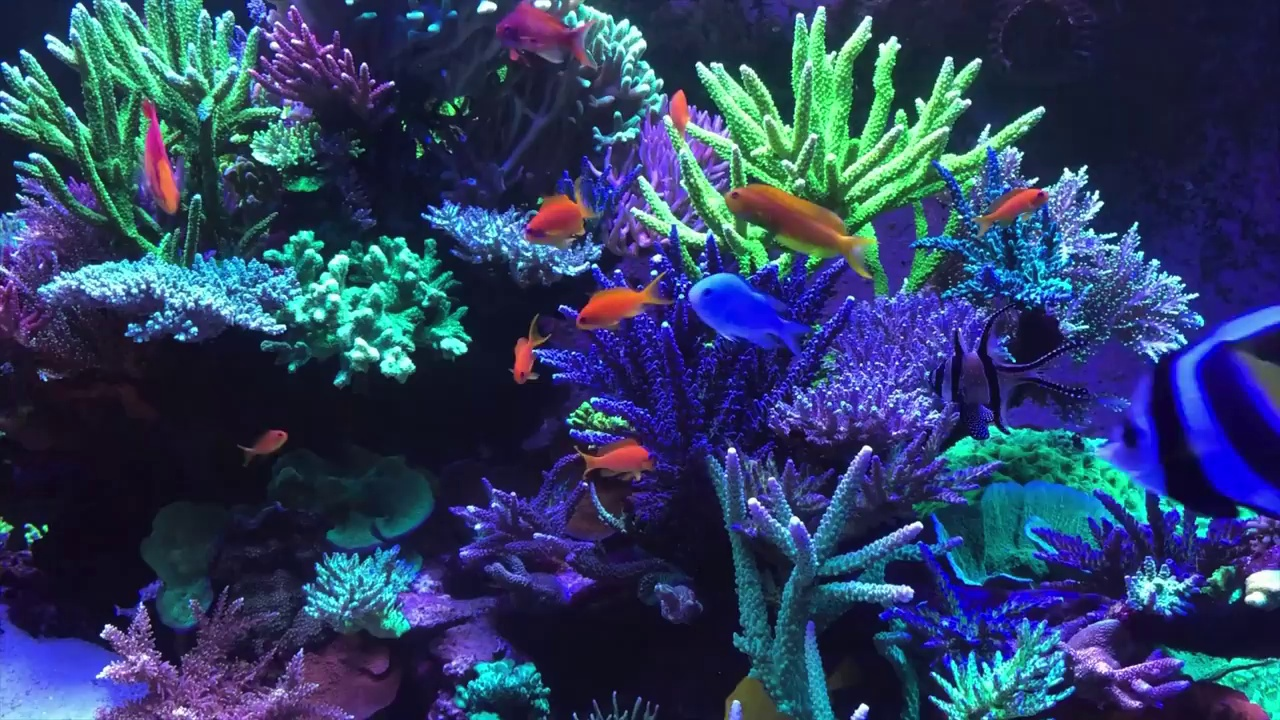fish: (1106, 304, 1280, 521), (920, 305, 1095, 441), (725, 183, 878, 283), (686, 272, 811, 356), (494, 2, 601, 74), (573, 269, 673, 335), (136, 95, 181, 217), (521, 175, 593, 249), (572, 438, 656, 484), (972, 186, 1050, 235), (508, 312, 552, 384), (232, 428, 290, 468), (667, 89, 690, 136)
